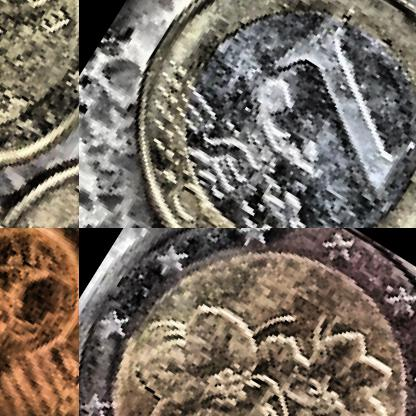coin: (79, 0, 415, 227), (79, 228, 415, 415), (0, 0, 78, 227), (0, 228, 78, 415)
